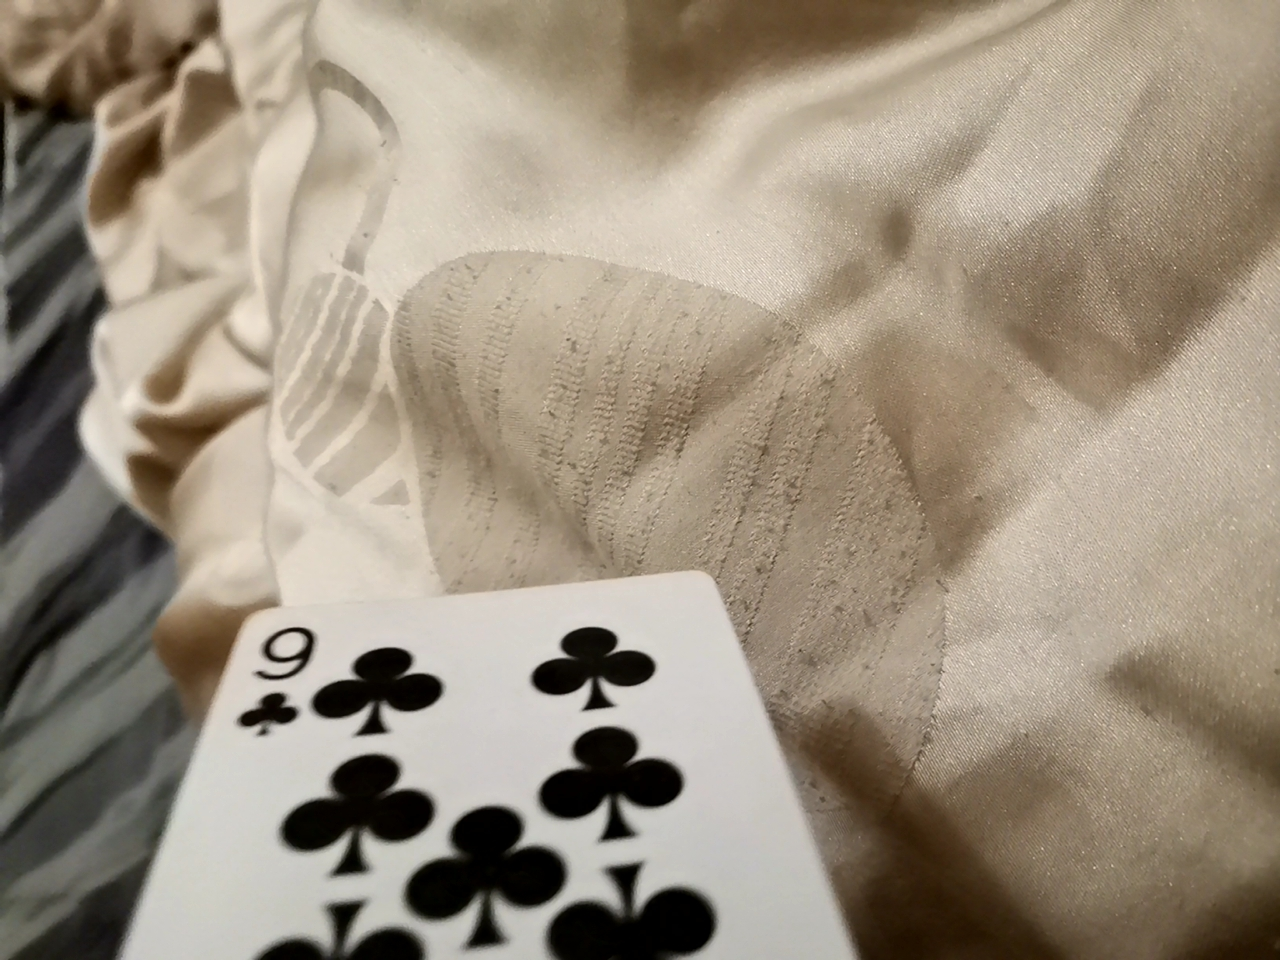mh 9: (54, 572, 877, 960)
